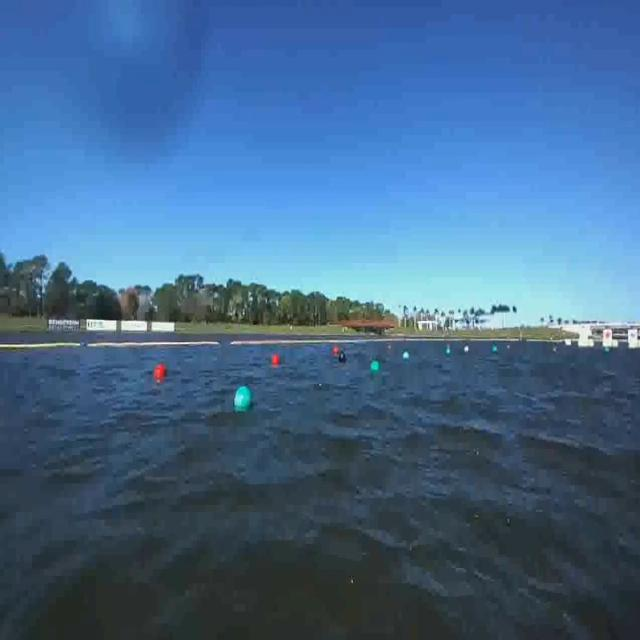green-buoy: (233, 384, 251, 409), (369, 360, 378, 373)
red-buoy: (267, 351, 287, 370), (156, 364, 168, 381)
